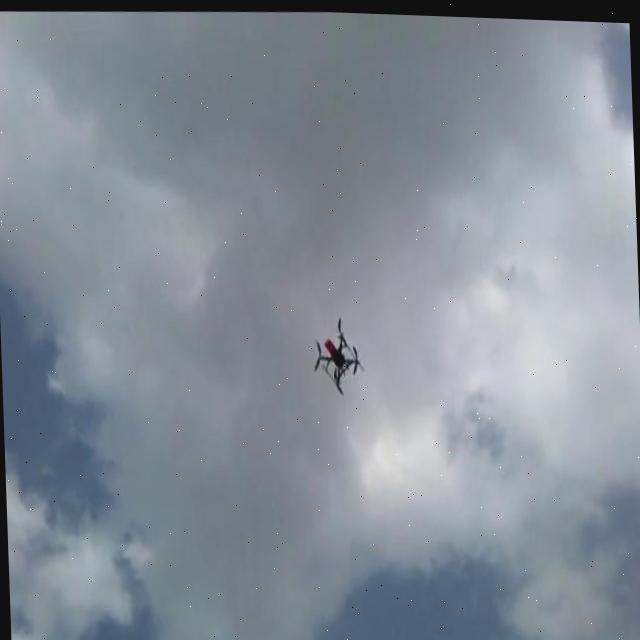drone: (310, 306, 365, 396)
